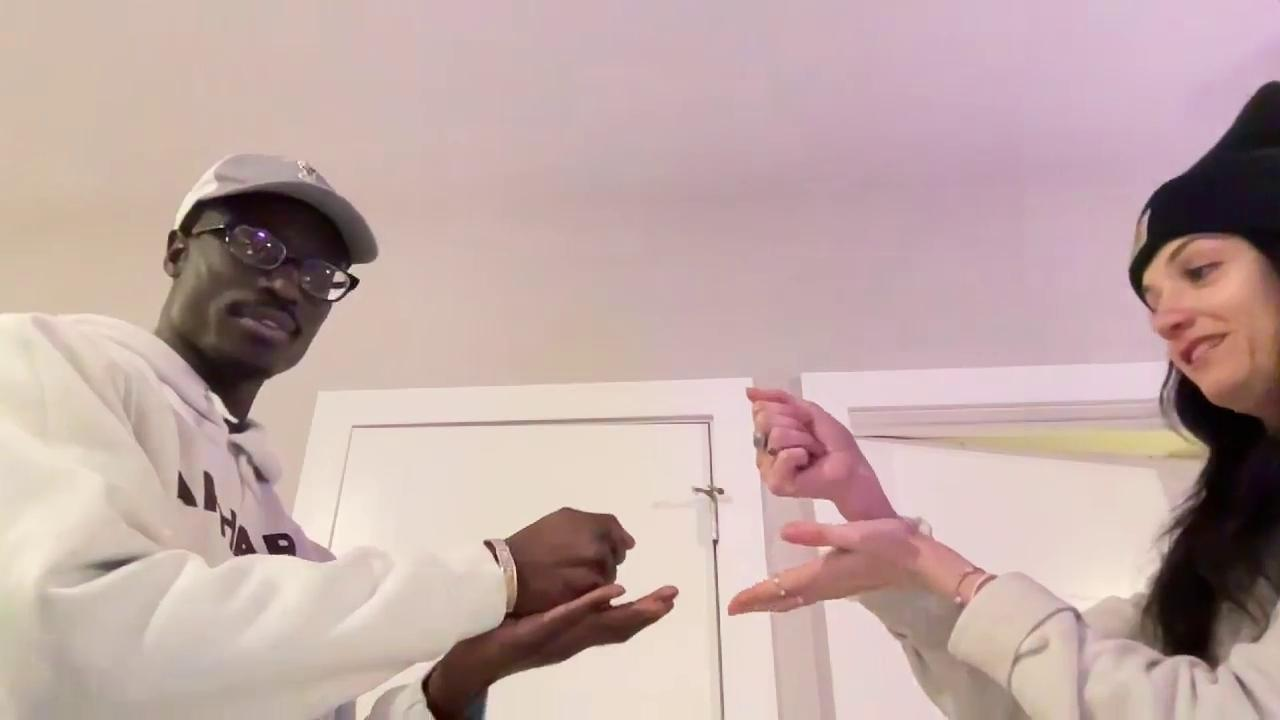Rock: (747, 387, 864, 505), (513, 505, 633, 611)
